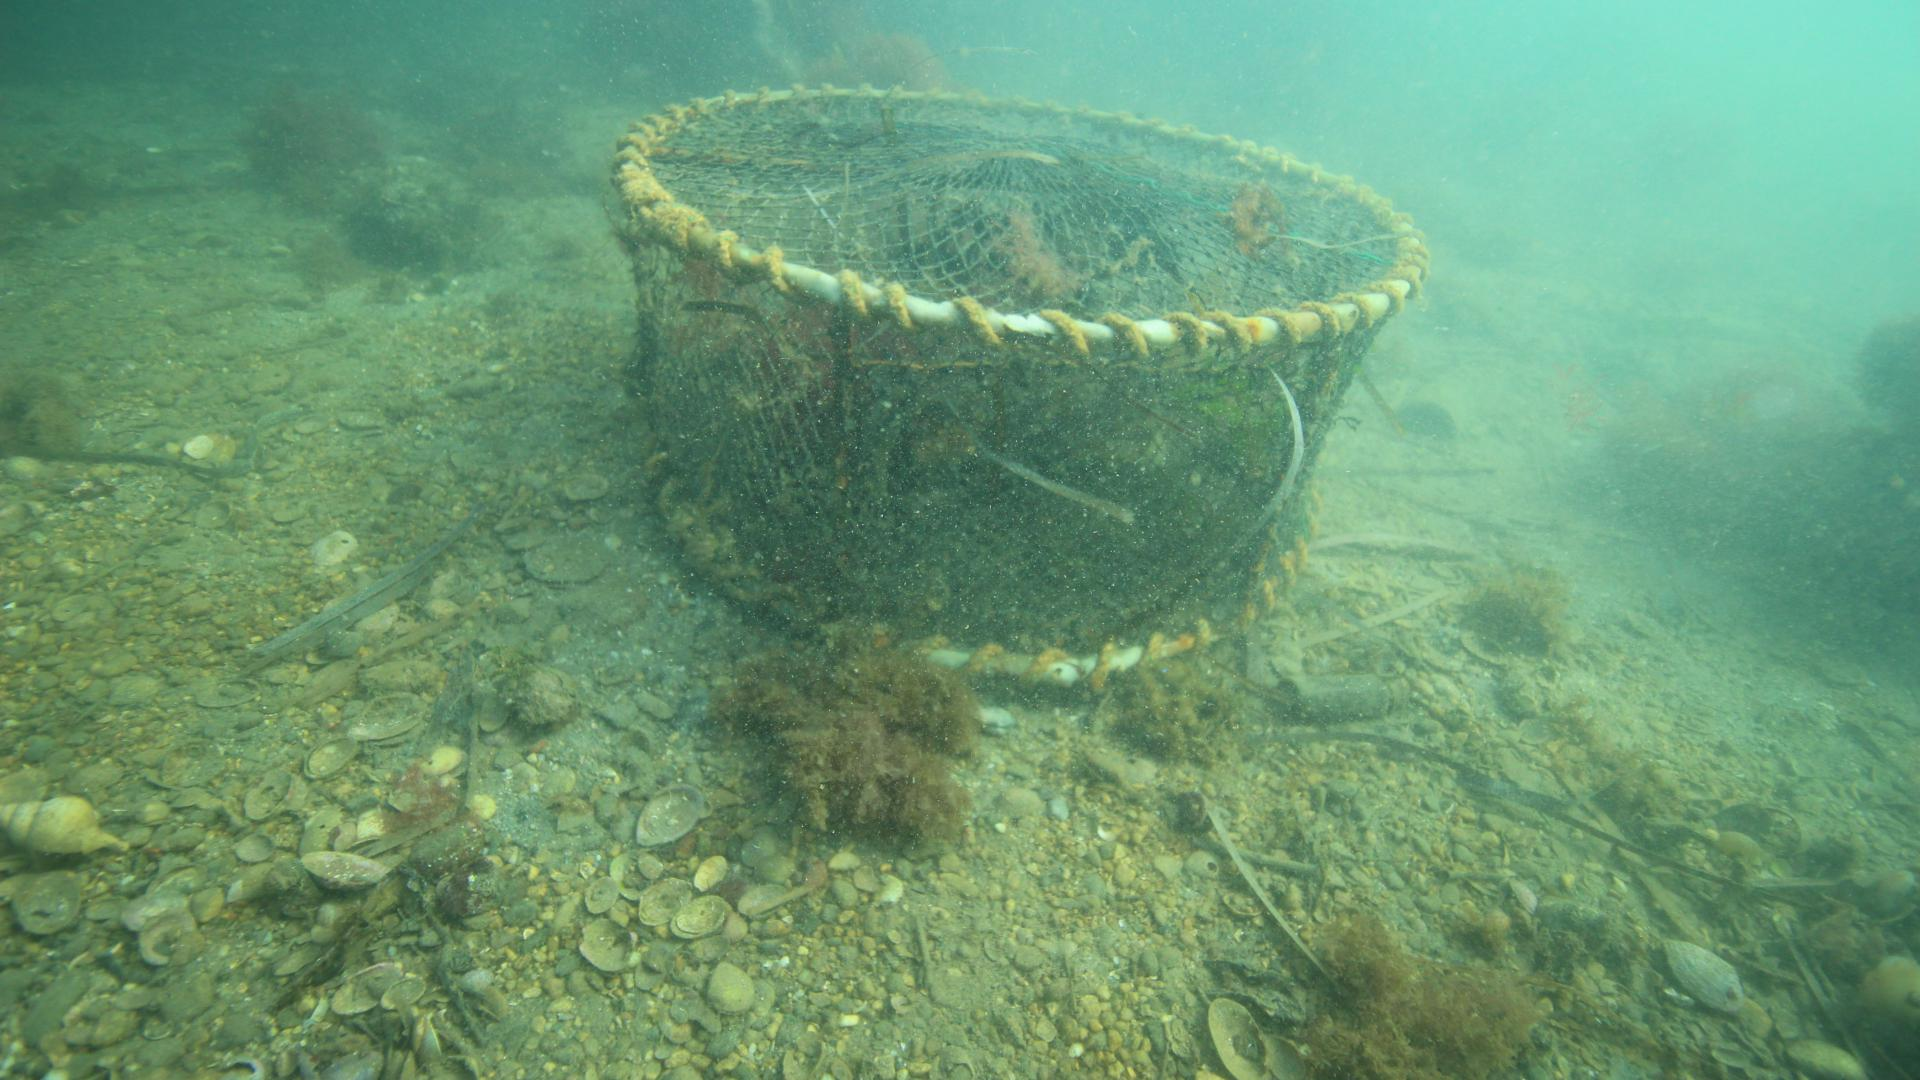circular fish trap: (607, 79, 1429, 684)
